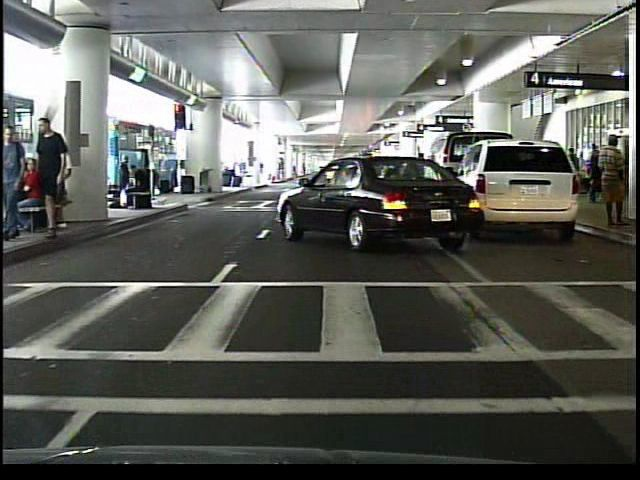person: (597, 131, 629, 231), (118, 161, 152, 213), (561, 145, 581, 196)
